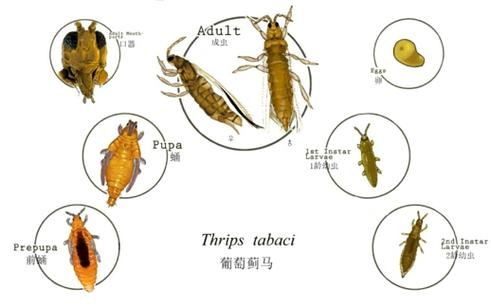Thripidae: (236, 6, 321, 135), (158, 33, 262, 133)
